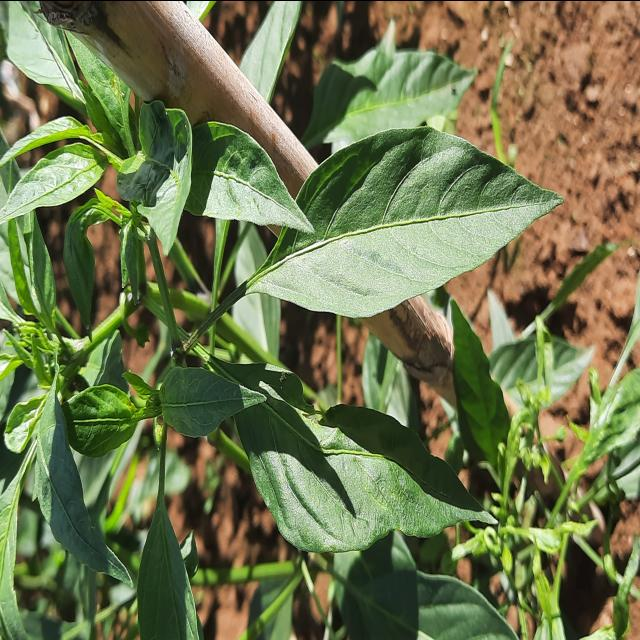sehat: (248, 130, 567, 328)
